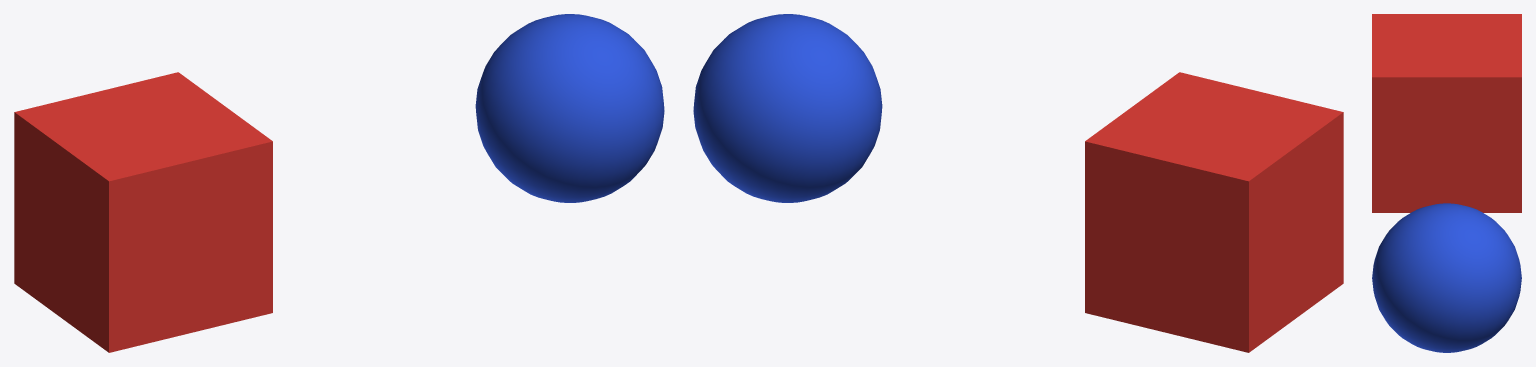
The picture shows the model from 3 angles, left to right: view 1: azimuth 30°, elevation 25°; view 2: azimuth 150°, elevation 25°; view 3: azimuth 270°, elevation 25°; orthographic projection. The views are drawn at different scales.
Visible parts, largest first — view 1: RedCube, BlueSphere; view 2: RedCube, BlueSphere; view 3: RedCube, BlueSphere.
Boxes of the visible parts, box(x1,y1,x2,y2) form: RedCube: box(14, 72, 272, 352); BlueSphere: box(475, 14, 664, 202); RedCube: box(1085, 72, 1343, 352); BlueSphere: box(693, 14, 882, 202); RedCube: box(1372, 14, 1521, 212); BlueSphere: box(1372, 203, 1521, 352).
Size of what is drawn, in the model's own units: 3.6 by 1 by 1.
